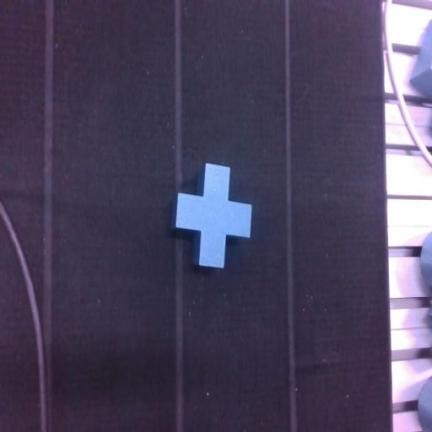cross: (176, 164, 251, 268)
